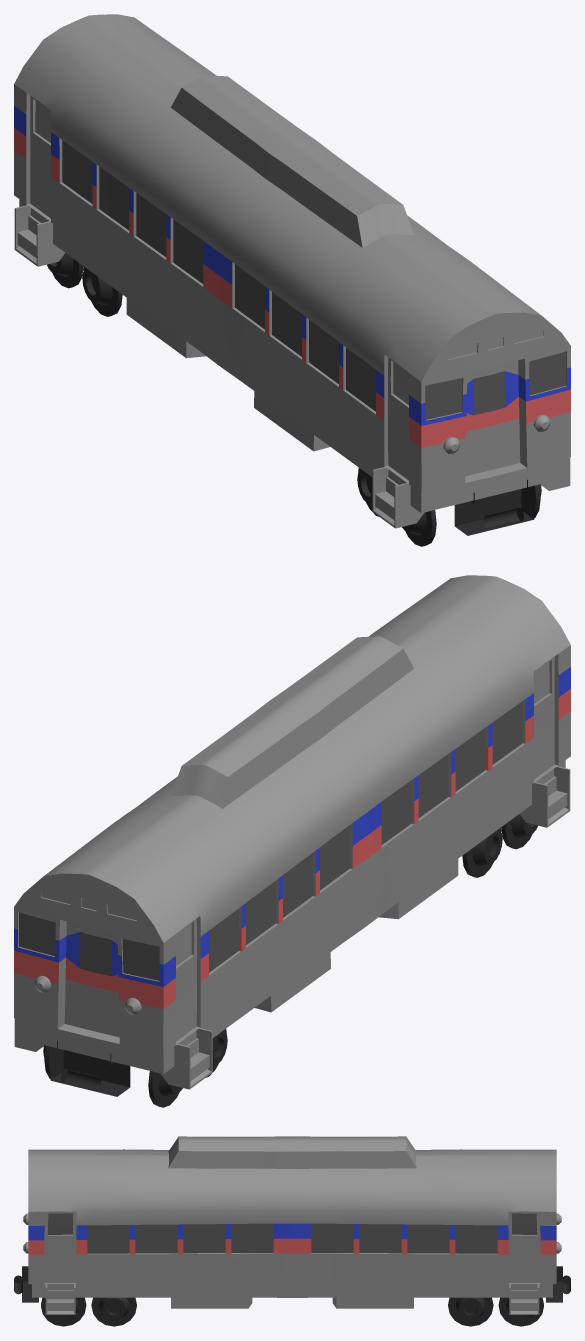
File: tRAINcAR.fbx
The picture shows the model from 3 angles, top to bottom: view 1: azimuth 30°, elevation 25°; view 2: azimuth 150°, elevation 25°; view 3: azimuth 270°, elevation 25°; orthographic projection. The views are drawn at different scales.
Parts seen in each view (by area): view 1: TrainCar; view 2: TrainCar; view 3: TrainCar.
Boxes of the visible parts, x1=… form: TrainCar: x1=14, y1=14, x2=570, y2=546; TrainCar: x1=14, y1=575, x2=570, y2=1107; TrainCar: x1=14, y1=1136, x2=570, y2=1326.
Size of the model in its own units: 234 by 336 by 996.
